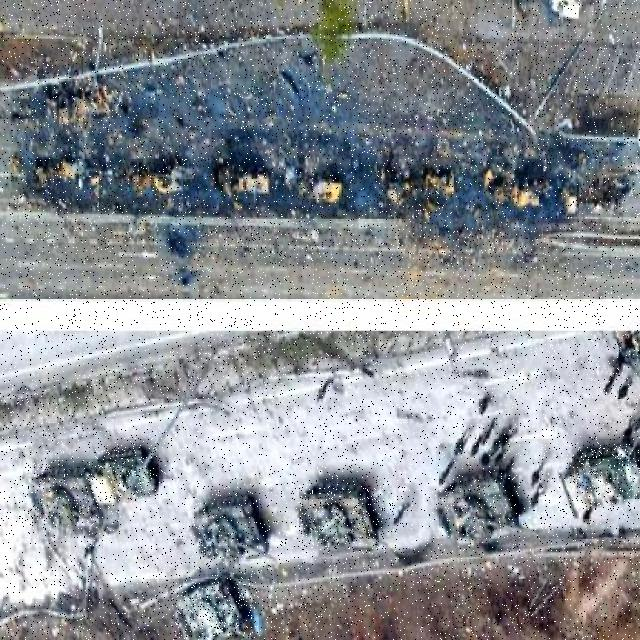MIL_MBT: (435, 469, 523, 550), (297, 480, 385, 553), (189, 490, 272, 565), (171, 577, 253, 640), (566, 444, 640, 513), (25, 464, 99, 530), (97, 445, 160, 501)
